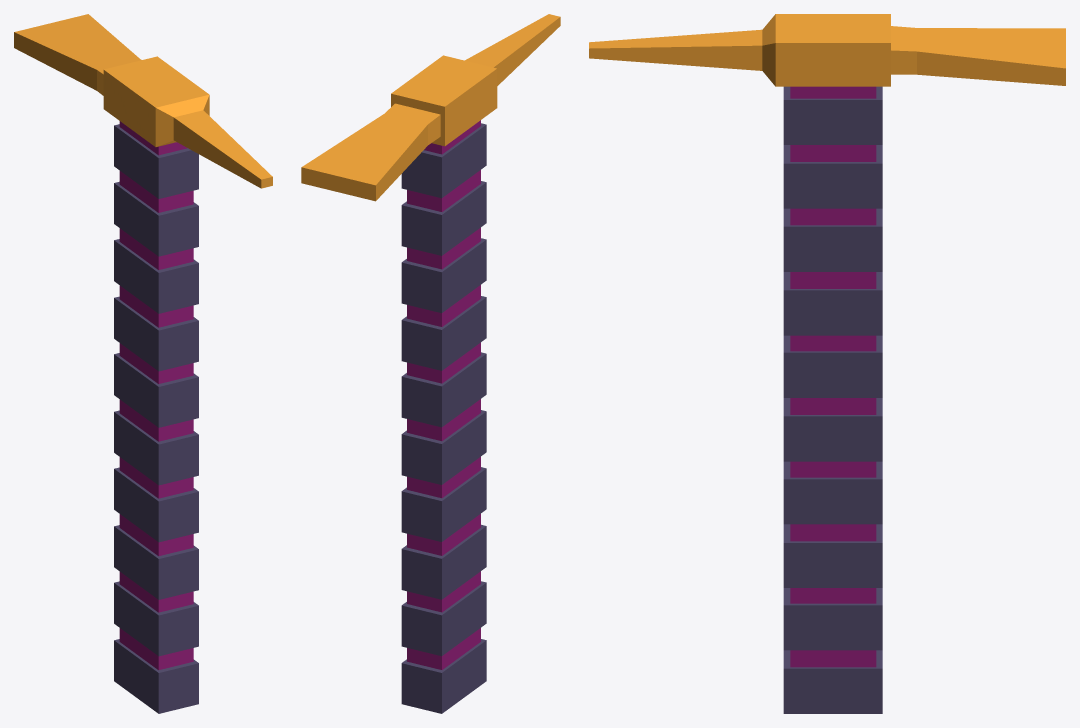
File: goldPickaxe.glb
The picture shows the model from 3 angles, left to right: view 1: azimuth 30°, elevation 25°; view 2: azimuth 150°, elevation 25°; view 3: azimuth 270°, elevation 25°; orthographic projection. The views are drawn at different scales.
Parts seen in each view (by area): view 1: Cube.008, Cube.005, Cube.002, Cube.011, Cube.014, Cube.019, Cube.001, Cube.010, Cube.006, Cube.015, Cube.018, Cube (+9 smaller); view 2: Cube.008, Cube.002, Cube.006, Cube.011, Cube.014, Cube.015, Cube.001, Cube.005, Cube.010, Cube.019, Cube.018, Cube.007 (+8 smaller); view 3: Cube.008, Cube.005, Cube.002, Cube.001, Cube.006, Cube.010, Cube.015, Cube.019, Cube.011, Cube.014, Cube.018, Cube (+9 smaller).
Part boxes in pixels (box(x1,y1,x2,y2)): Cube.008: box(14, 14, 272, 188); Cube.005: box(114, 467, 198, 542); Cube.002: box(114, 581, 198, 656); Cube.011: box(114, 239, 198, 313); Cube.014: box(114, 353, 198, 427); Cube.019: box(114, 181, 198, 256); Cube.001: box(114, 639, 198, 713); Cube.010: box(114, 296, 198, 371); Cube.006: box(114, 525, 198, 599); Cube.015: box(114, 410, 198, 485); Cube.018: box(114, 124, 198, 198); Cube: box(119, 628, 193, 670); Cube.008: box(301, 14, 560, 201); Cube.002: box(401, 581, 486, 656); Cube.006: box(401, 524, 486, 599); Cube.011: box(401, 238, 486, 313); Cube.014: box(401, 352, 486, 427); Cube.015: box(401, 410, 486, 484); Cube.001: box(401, 639, 486, 713); Cube.005: box(401, 467, 486, 541); Cube.010: box(401, 296, 486, 370); Cube.019: box(401, 181, 486, 255); Cube.018: box(401, 123, 486, 198); Cube.007: box(407, 514, 480, 555); Cube.008: box(589, 14, 1065, 86); Cube.005: box(783, 461, 882, 524); Cube.002: box(783, 588, 882, 650); Cube.001: box(783, 650, 882, 713); Cube.006: box(783, 524, 882, 587); Cube.010: box(783, 272, 882, 335); Cube.015: box(783, 398, 882, 461); Cube.019: box(783, 145, 882, 208); Cube.011: box(783, 208, 882, 271); Cube.014: box(783, 335, 882, 397); Cube.018: box(783, 86, 882, 144); Cube: box(790, 650, 876, 667).
Size of the model in its own units: 1.32 by 10.39 by 6.66.
Materials: 1 (1 with a texture image).
